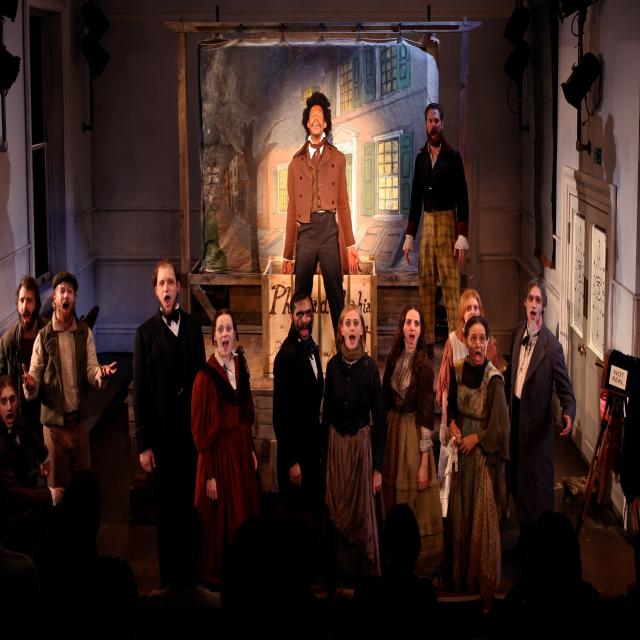body: (0, 482, 602, 637), (130, 256, 206, 590), (19, 270, 120, 494), (442, 311, 516, 606), (502, 277, 578, 564), (317, 297, 387, 606), (269, 286, 336, 602), (282, 90, 362, 354), (188, 307, 260, 593), (377, 301, 447, 579), (0, 371, 69, 640), (401, 101, 470, 362), (435, 287, 500, 519), (0, 274, 52, 464)
